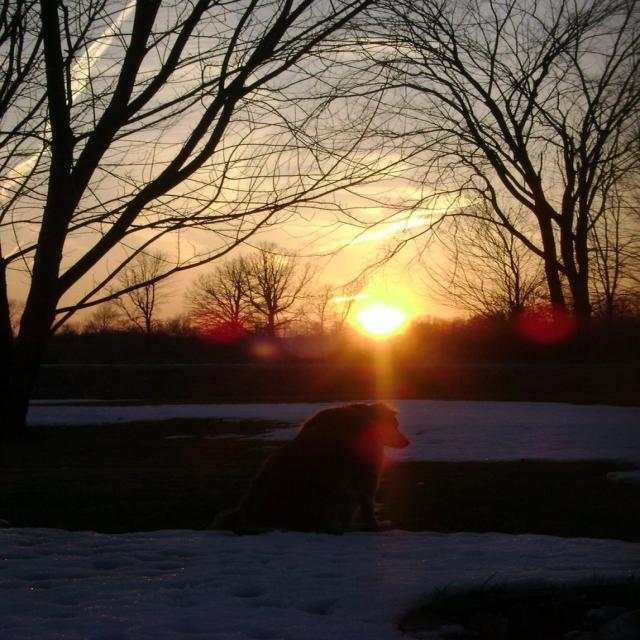Dog: (221, 404, 474, 532)
